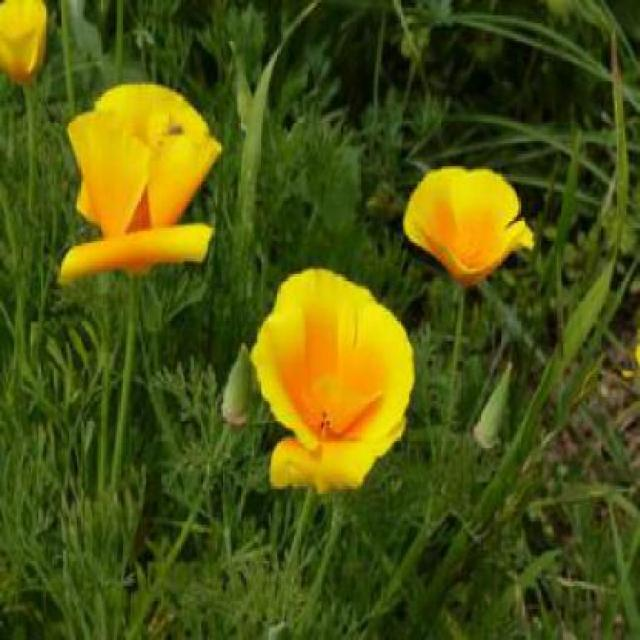Flower: (250, 266, 416, 497), (65, 82, 223, 241), (401, 164, 537, 287), (2, 2, 48, 87)
